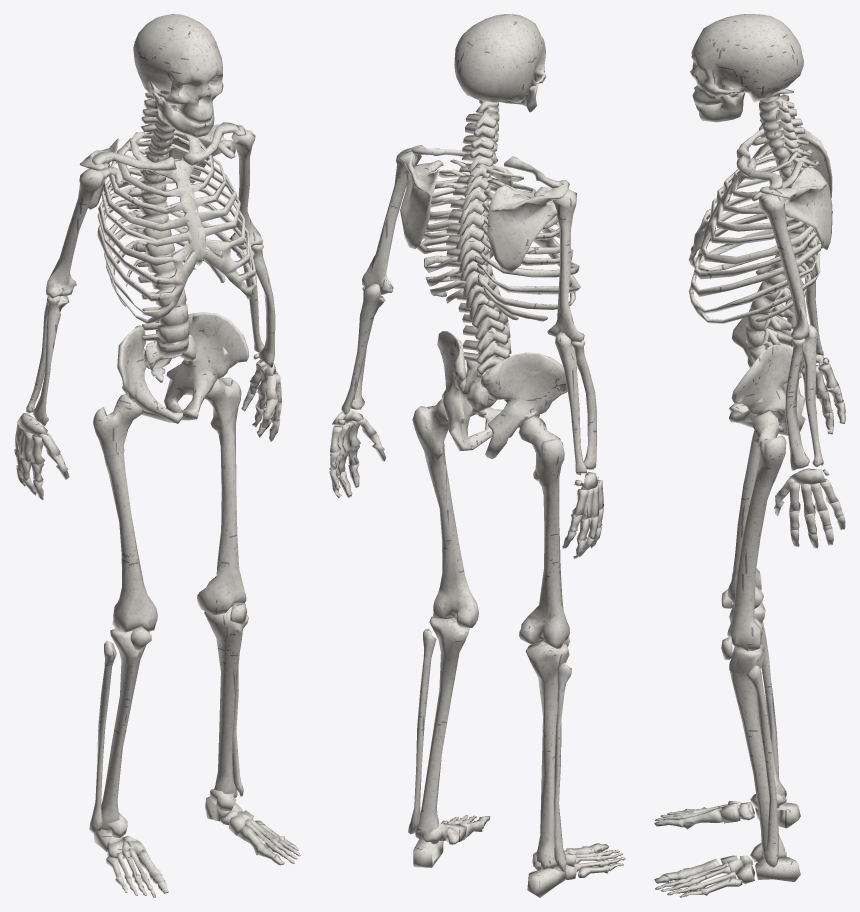
File: human_skeleton.gltf
The picture shows the model from 3 angles, left to right: view 1: azimuth 30°, elevation 25°; view 2: azimuth 150°, elevation 25°; view 3: azimuth 270°, elevation 25°; orthographic projection. The views are drawn at different scales.
Visible parts, largest first — view 1: root; view 2: root; view 3: root.
Boxes of the visible parts, x1=… form: root: x1=14, y1=14, x2=300, y2=897; root: x1=329, y1=14, x2=625, y2=897; root: x1=654, y1=14, x2=845, y2=897.
Size of the model in its own units: 0.9445 by 2.94 by 0.6098.
1 material, 1 textured.
